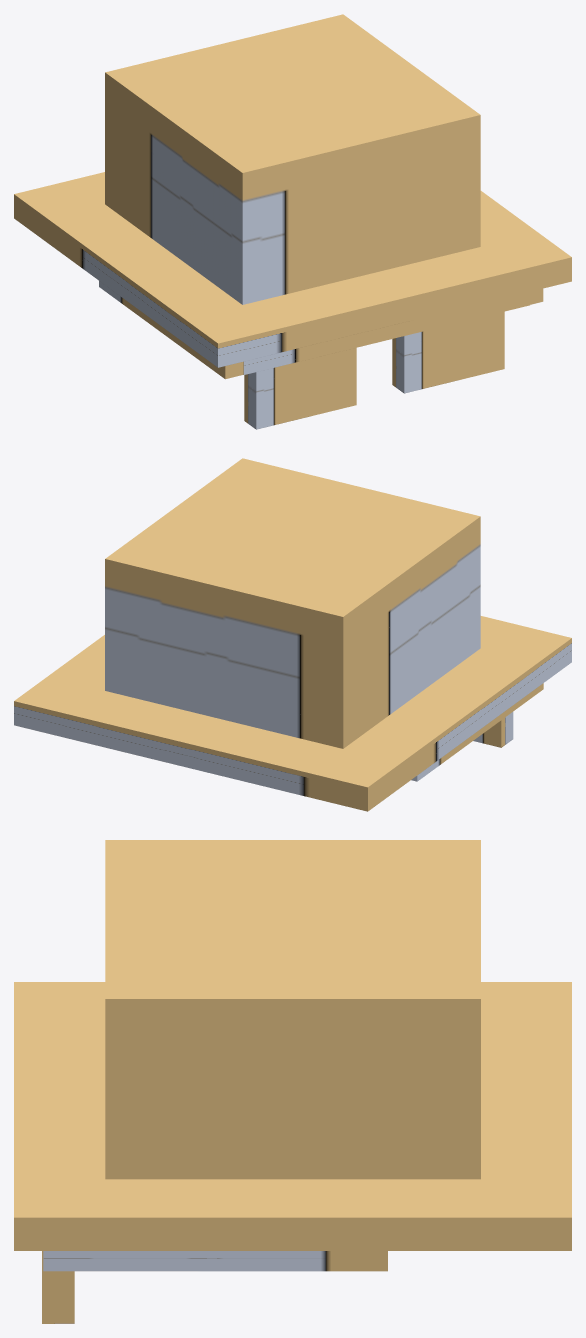
Rendered from invisibleman.fbx.
3 views of the same model, one above another, from view 1: azimuth 30°, elevation 25°; view 2: azimuth 150°, elevation 25°; view 3: azimuth 270°, elevation 25° (orthographic). The views are drawn at different scales.
Parts seen in each view (by area): view 1: pCube12, pasted__pasted__pasted__pasted__pCube13; view 2: pCube12, pasted__pasted__pasted__pasted__pCube13; view 3: pCube12, pasted__pasted__pasted__pasted__pCube13.
Boxes of the visible parts, x1,y1,x2,y2 form: pCube12: (14, 14, 571, 367); pasted__pasted__pasted__pasted__pCube13: (99, 281, 543, 429); pCube12: (14, 458, 571, 811); pasted__pasted__pasted__pasted__pCube13: (411, 683, 543, 781); pCube12: (14, 840, 571, 1250); pasted__pasted__pasted__pasted__pCube13: (42, 1251, 387, 1323).
Size of the model in its own units: 0.58 by 0.3718 by 0.5795.
